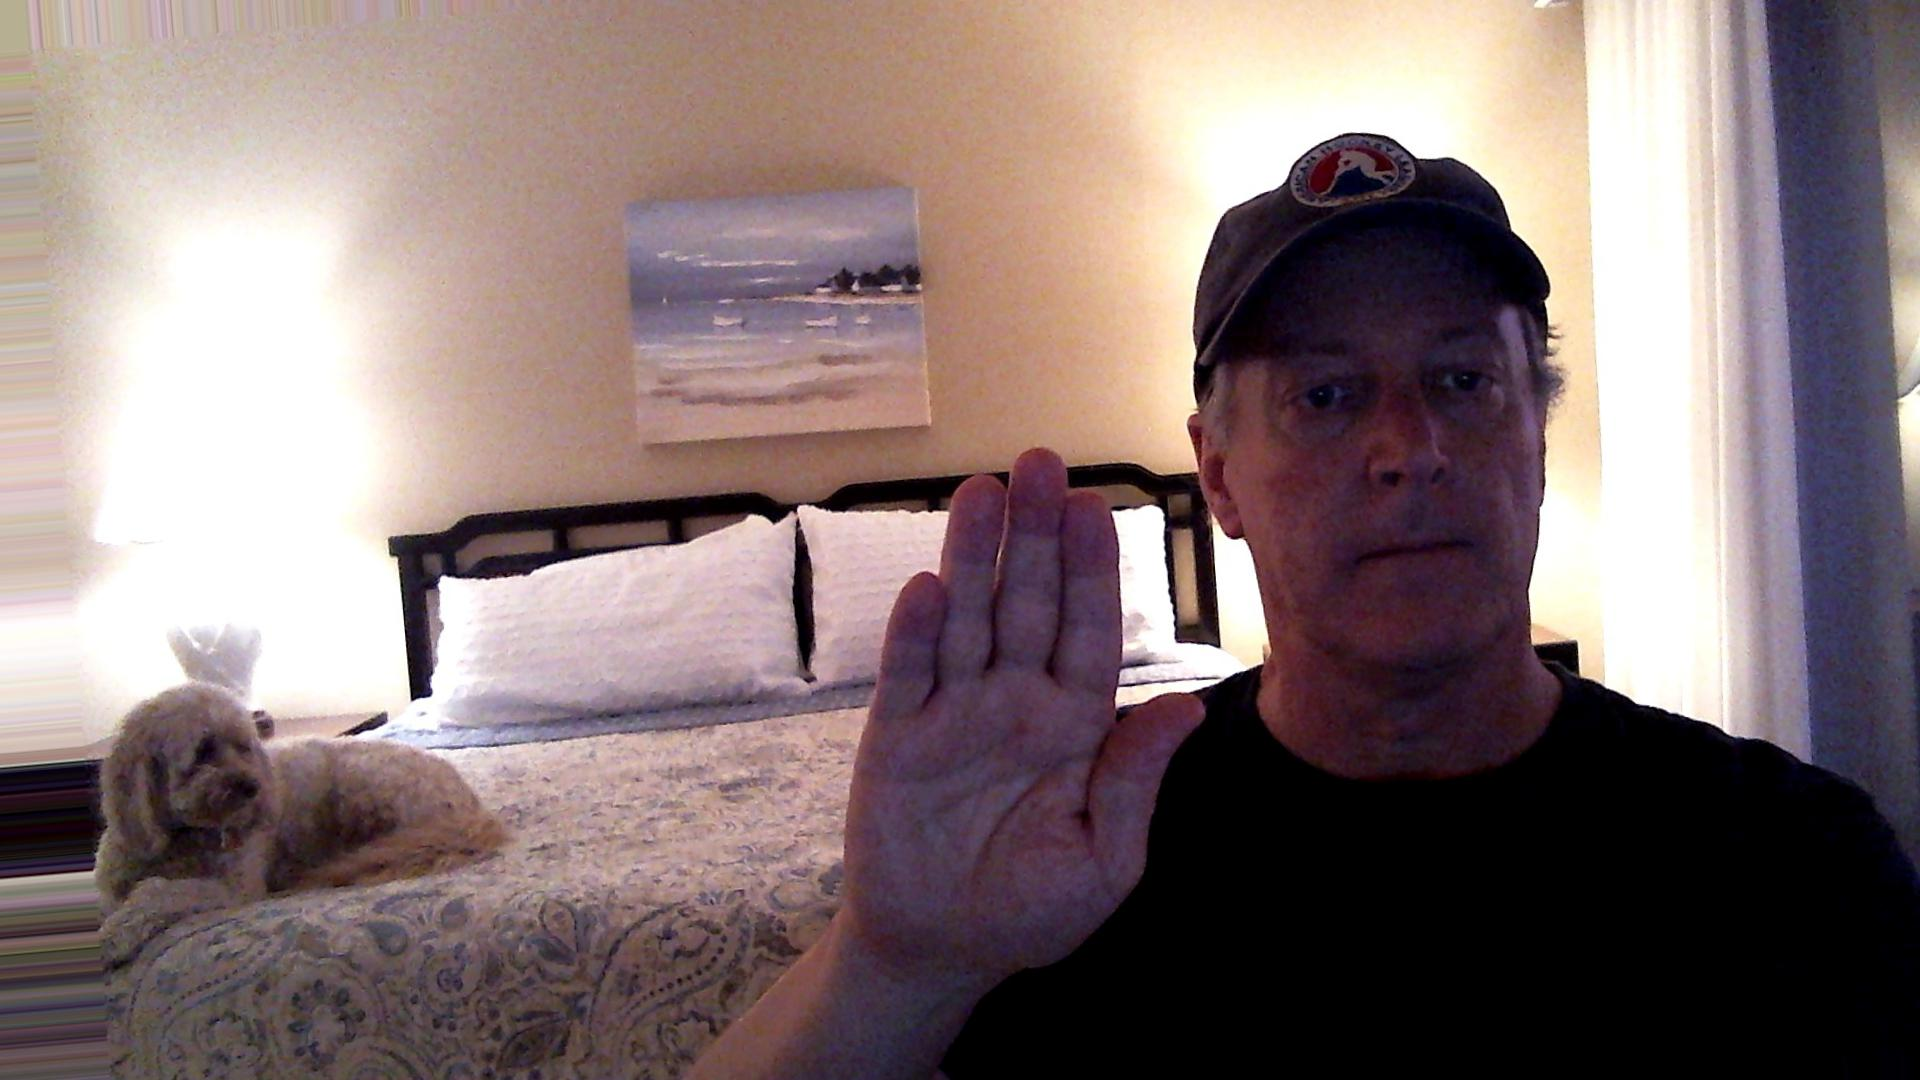Hello: (835, 429, 1218, 1004)
